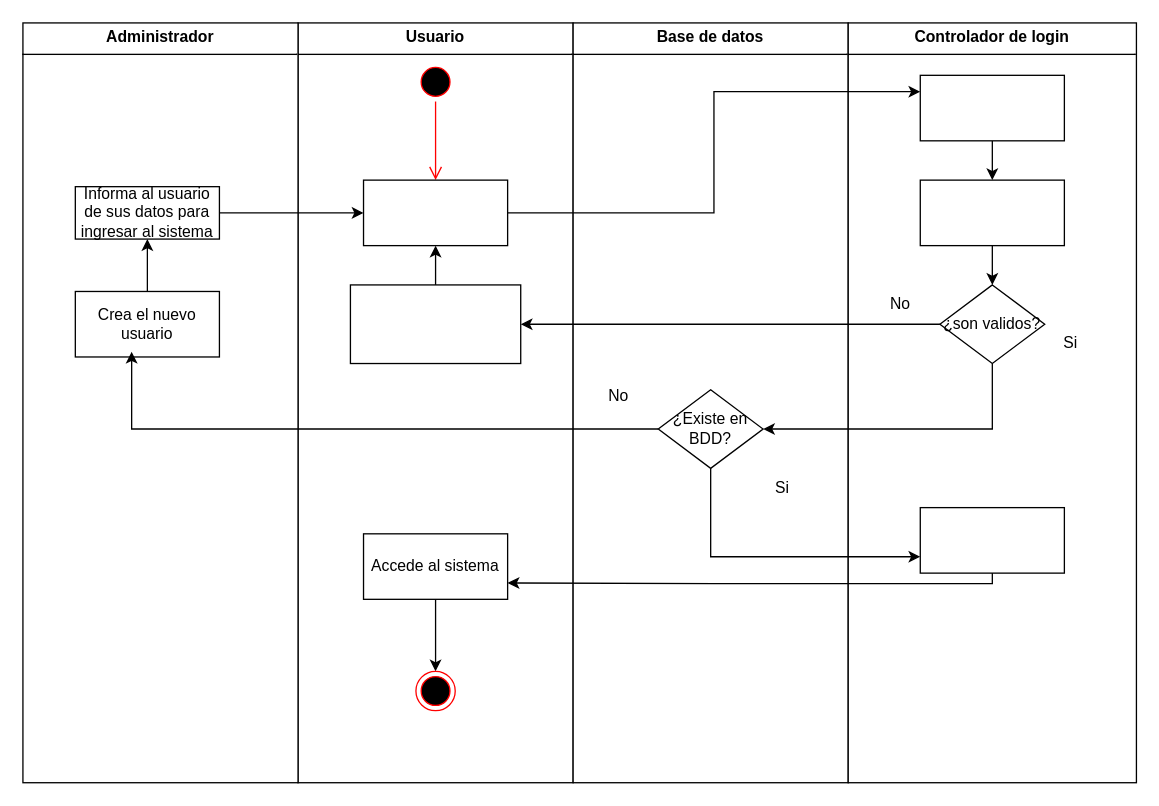
Some shapes in this 1159 by 806 pixel diagram are drawn without their labels. The centre of each missing label's shape, as x and y in pixels:
El usuario debe volver a ingresar sus datos y verificar que sean correctos: the point at 435,324
Ingresa sus datos y solicita ingresar al sistema: the point at 435,212
Permite al usuario el acceso al sistema: the point at 991,539
Recibe datos de login del usuario: the point at 991,107
Verifica si los datos son validos: the point at 991,212
